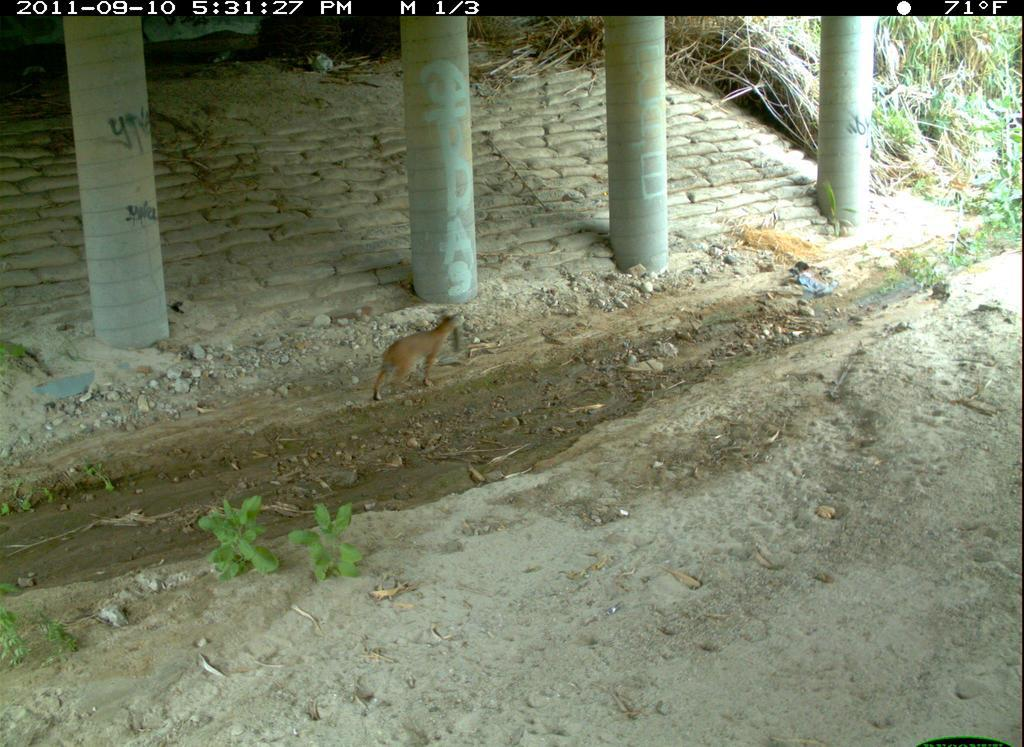bobcat: (737, 620, 930, 747)
rabbit: (899, 646, 932, 726)
